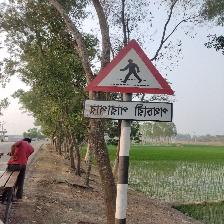Pedestrian-crossing: (83, 39, 176, 123)
